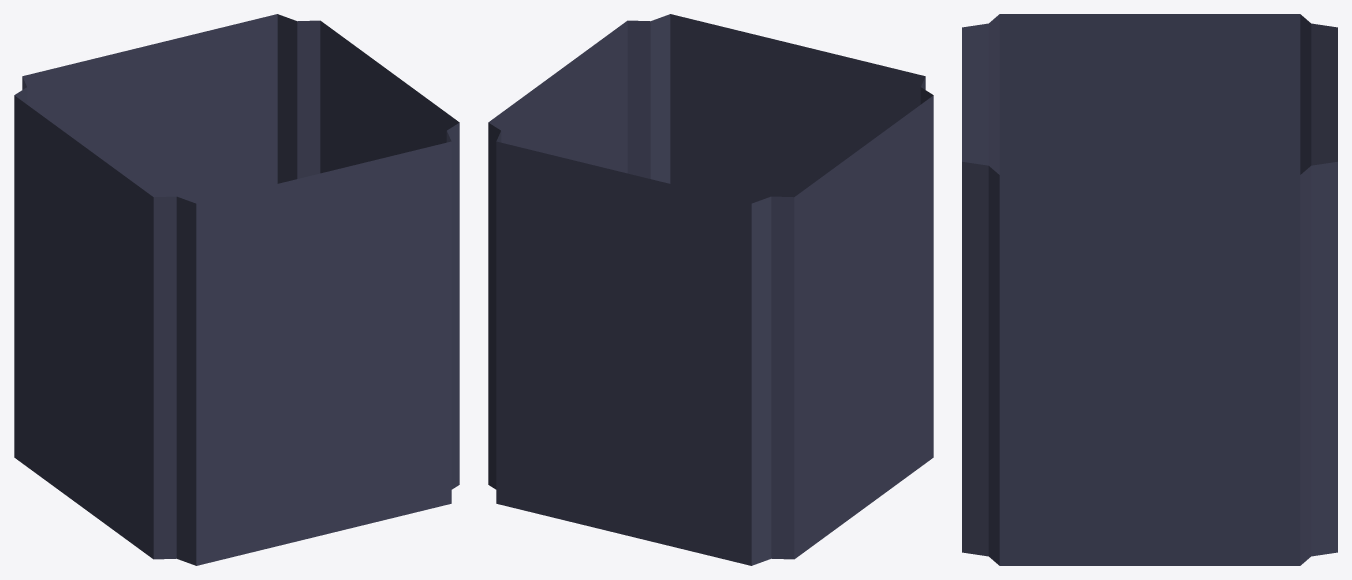
The model's file is Env_Bottom_House_01.fbx.
3 renders of one model, left to right at view 1: azimuth 30°, elevation 25°; view 2: azimuth 150°, elevation 25°; view 3: azimuth 270°, elevation 25°, orthographic. The views are drawn at different scales.
Parts seen in each view (by area): view 1: Env_Bottom_House_01; view 2: Env_Bottom_House_01; view 3: Env_Bottom_House_01.
Boxes of the visible parts, x1,y1,x2,y2 form: Env_Bottom_House_01: [14, 14, 459, 565]; Env_Bottom_House_01: [488, 14, 933, 565]; Env_Bottom_House_01: [962, 14, 1337, 565].
Bounding box in the file's own units: 0.8844 × 1 × 0.8713.
